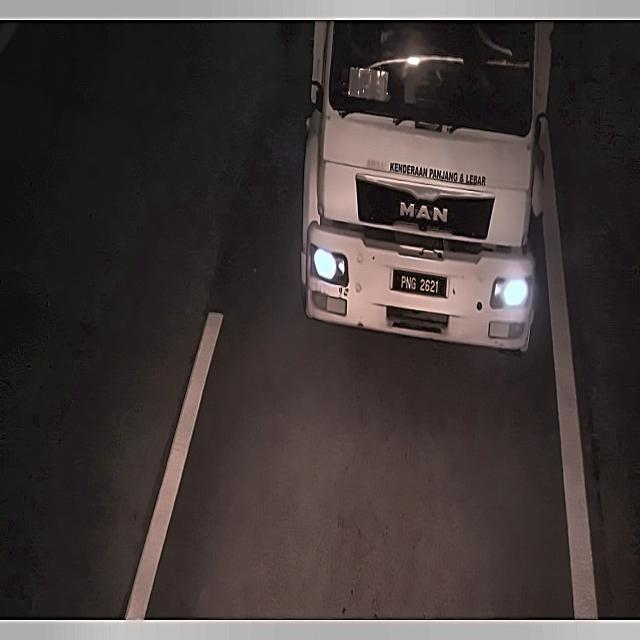car: (392, 267, 448, 305)
